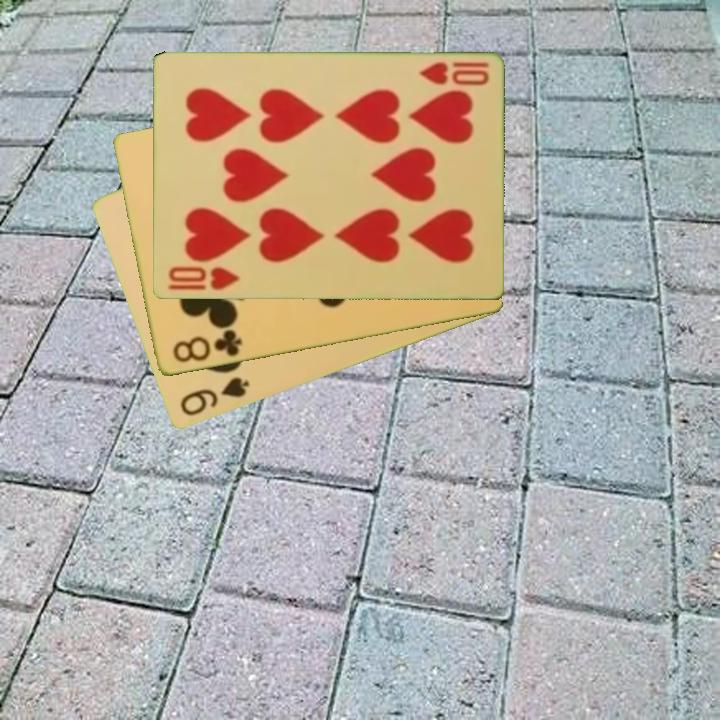10h: (164, 263, 242, 293), (415, 59, 491, 89)
8c: (168, 326, 245, 366)
9s: (176, 374, 252, 420)
